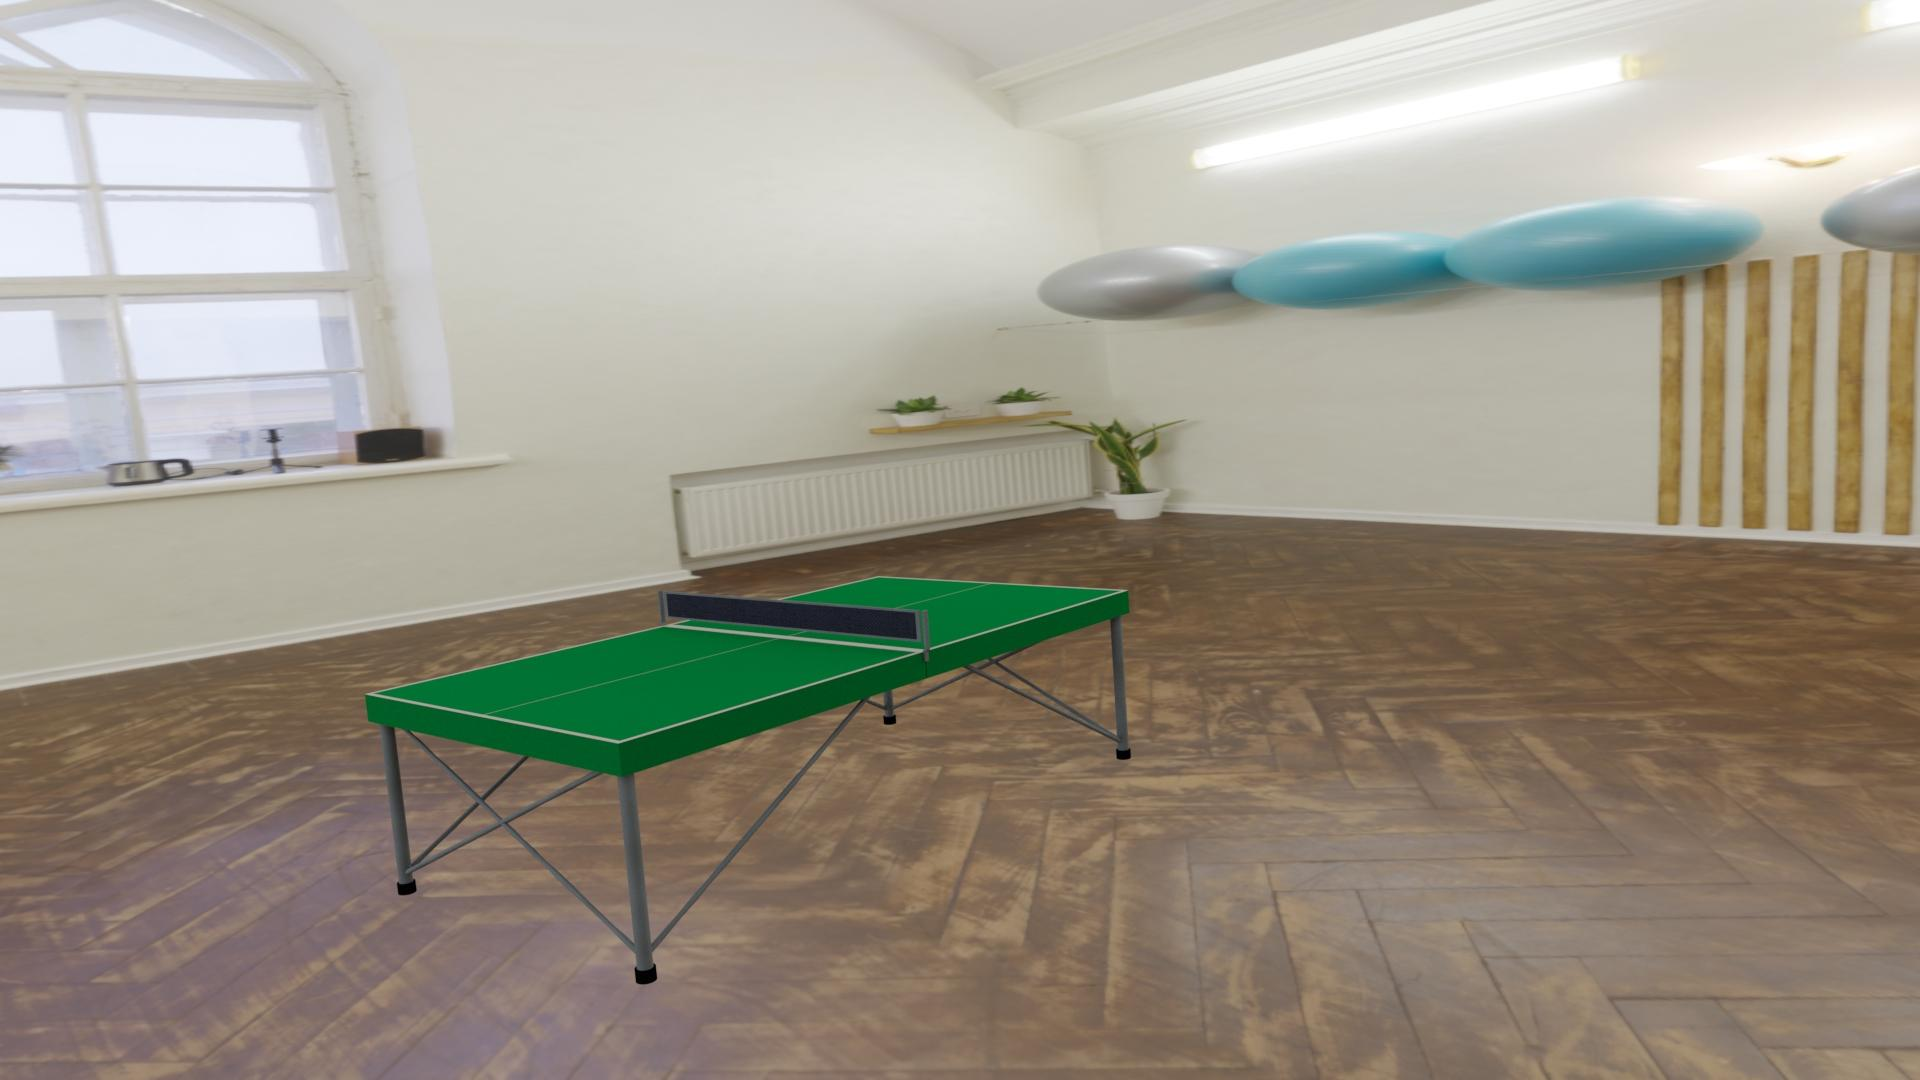table: (373, 578, 1122, 741)
